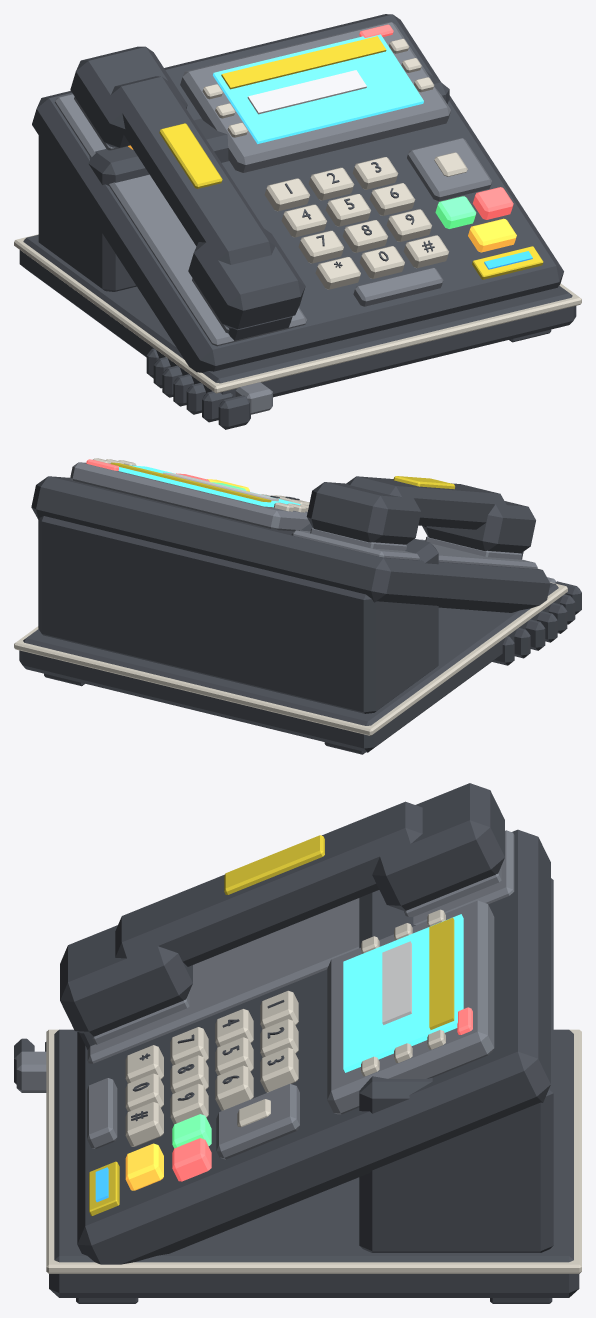
Rendered from Telefono_tastiModellati.fbx.
The picture shows the model from 3 angles, top to bottom: view 1: azimuth 30°, elevation 25°; view 2: azimuth 150°, elevation 25°; view 3: azimuth 270°, elevation 25°; orthographic projection. The views are drawn at different scales.
Parts seen in each view (by area): view 1: Telefono_Scocca_Superiore, Telefono_Base_Piatta, Cornetta_Impugnatura, Display_Cornice, Display_LCD, Telefono_Supporto_Rialzo, Culla_Cornetta_Incavo, Cornetta_Microfono, Telefono_Bordo_Alluminio, Cornetta_Auricolare, Tasto_Nav_Anello, Display_Barra_Poste (+24 smaller); view 2: Telefono_Supporto_Rialzo, Telefono_Scocca_Superiore, Telefono_Base_Piatta, Telefono_Bordo_Alluminio, Cornetta_Auricolare, Display_Cornice, Cornetta_Impugnatura, Cornetta_Microfono, Culla_Cornetta_Incavo, Display_LCD, Display_Barra_Poste, Cornetta_Padiglione_Alto (+7 smaller); view 3: Telefono_Scocca_Superiore, Telefono_Base_Piatta, Telefono_Supporto_Rialzo, Cornetta_Impugnatura, Culla_Cornetta_Incavo, Display_Cornice, Cornetta_Auricolare, Telefono_Bordo_Alluminio, Cornetta_Microfono, Display_LCD, Tasto_Nav_Anello, Display_Barra_Poste (+22 smaller).
Part boxes in pixels (x1=…): Telefono_Scocca_Superiore: x1=32, y1=14, x2=563, y2=372; Telefono_Base_Piatta: x1=19, y1=234, x2=576, y2=397; Cornetta_Impugnatura: x1=111, y1=76, x2=275, y2=264; Display_Cornice: x1=180, y1=22, x2=451, y2=172; Display_LCD: x1=213, y1=34, x2=423, y2=143; Telefono_Supporto_Rialzo: x1=38, y1=71, x2=449, y2=291; Culla_Cornetta_Incavo: x1=55, y1=93, x2=306, y2=346; Cornetta_Microfono: x1=188, y1=228, x2=305, y2=329; Telefono_Bordo_Alluminio: x1=14, y1=234, x2=581, y2=393; Cornetta_Auricolare: x1=70, y1=46, x2=187, y2=147; Tasto_Nav_Anello: x1=407, y1=138, x2=492, y2=201; Display_Barra_Poste: x1=221, y1=36, x2=386, y2=89; Telefono_Supporto_Rialzo: x1=38, y1=516, x2=438, y2=713; Telefono_Scocca_Superiore: x1=31, y1=476, x2=550, y2=612; Telefono_Base_Piatta: x1=19, y1=582, x2=562, y2=752; Telefono_Bordo_Alluminio: x1=14, y1=582, x2=567, y2=735; Cornetta_Auricolare: x1=306, y1=482, x2=420, y2=544; Display_Cornice: x1=70, y1=462, x2=309, y2=531; Cornetta_Impugnatura: x1=346, y1=476, x2=506, y2=529; Cornetta_Microfono: x1=422, y1=501, x2=535, y2=553; Culla_Cornetta_Incavo: x1=291, y1=530, x2=537, y2=568; Display_LCD: x1=118, y1=465, x2=300, y2=507; Display_Barra_Poste: x1=110, y1=462, x2=271, y2=502; Cornetta_Padiglione_Alto: x1=310, y1=527, x2=406, y2=550; Telefono_Scocca_Superiore: x1=77, y1=829, x2=550, y2=1264; Telefono_Base_Piatta: x1=49, y1=1029, x2=579, y2=1297; Telefono_Supporto_Rialzo: x1=359, y1=878, x2=553, y2=1252; Cornetta_Impugnatura: x1=115, y1=801, x2=422, y2=966; Culla_Cornetta_Incavo: x1=87, y1=830, x2=514, y2=1063; Display_Cornice: x1=327, y1=900, x2=494, y2=1114; Cornetta_Auricolare: x1=372, y1=783, x2=504, y2=910; Telefono_Bordo_Alluminio: x1=46, y1=1029, x2=581, y2=1273; Cornetta_Microfono: x1=60, y1=925, x2=192, y2=1036; Display_LCD: x1=343, y1=914, x2=463, y2=1072; Tasto_Nav_Anello: x1=216, y1=1083, x2=299, y2=1159; Display_Barra_Poste: x1=429, y1=917, x2=454, y2=1029.
Bounding box in the file's own units: 22.55 × 13.59 × 21.95.
